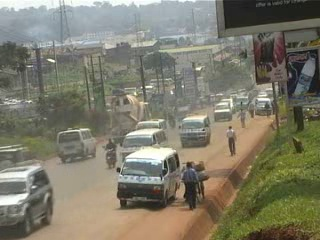Car: (0, 163, 58, 236), (0, 141, 47, 175), (211, 102, 233, 121), (221, 97, 238, 112)
Motorcycle: (100, 144, 118, 168)
